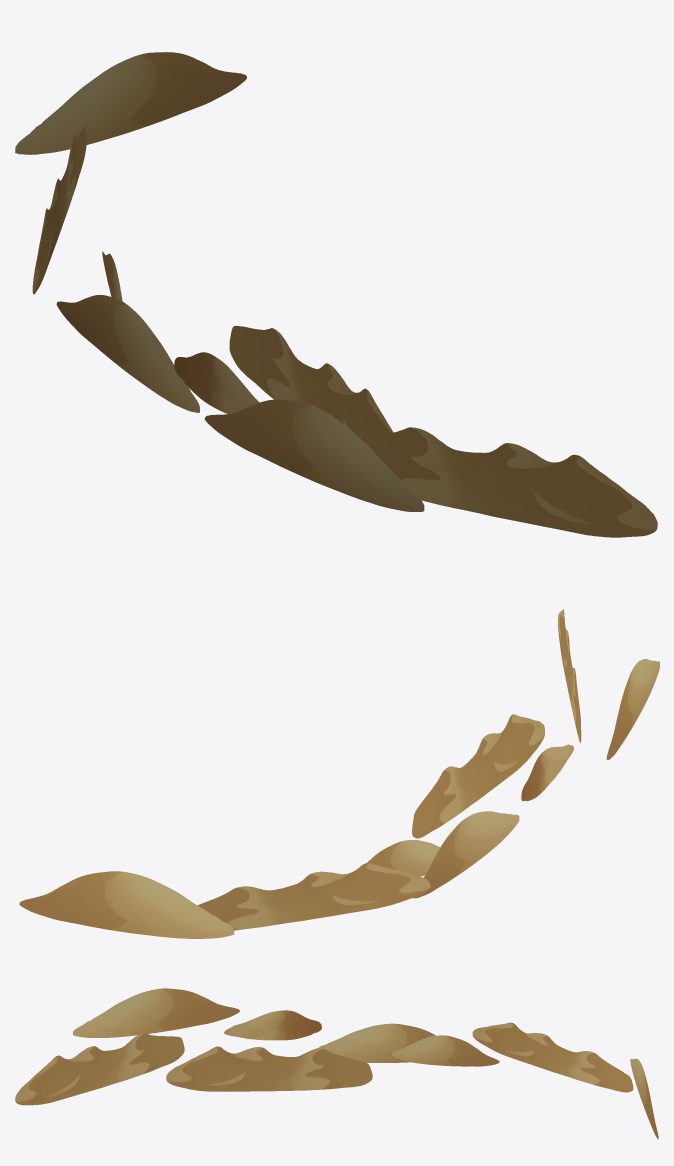
The model's file is Area_05_1.fbx.
3 renders of one model, top to bottom at view 1: azimuth 30°, elevation 25°; view 2: azimuth 150°, elevation 25°; view 3: azimuth 270°, elevation 25°, orthographic. The views are drawn at different scales.
Parts seen in each view (by area): view 1: Area_05_1; view 2: Area_05_1; view 3: Area_05_1.
Part boxes in pixels (box(x1,y1,x2,y2)): Area_05_1: box(15, 52, 657, 537); Area_05_1: box(19, 609, 659, 938); Area_05_1: box(15, 988, 658, 1139).
Size of the model in its own units: 17621 by 5330 by 41179.
Materials: 1 (1 with a texture image).
